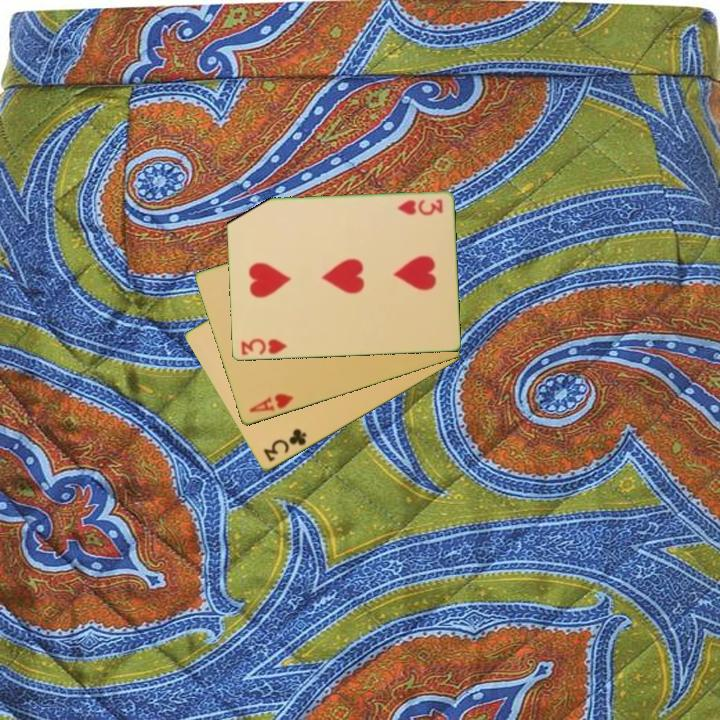3c: (260, 425, 310, 465)
3h: (237, 335, 289, 358), (394, 196, 445, 218)
Ah: (245, 390, 296, 416)
